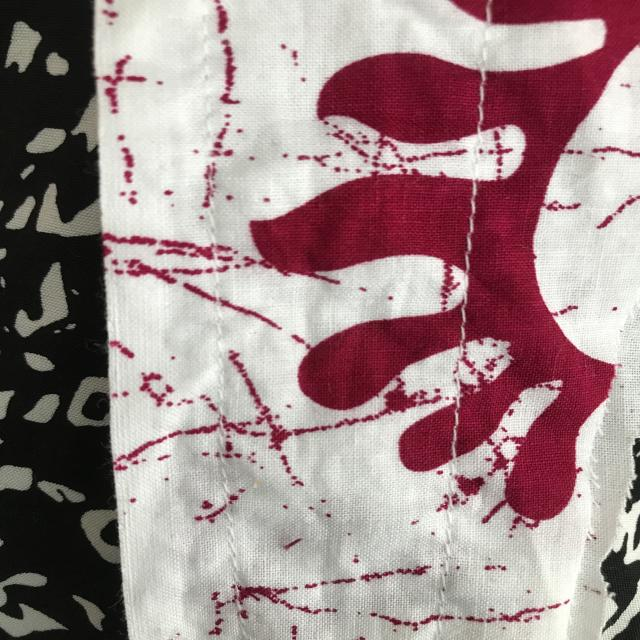good: (460, 191, 490, 261), (439, 518, 462, 588), (443, 412, 471, 453)
